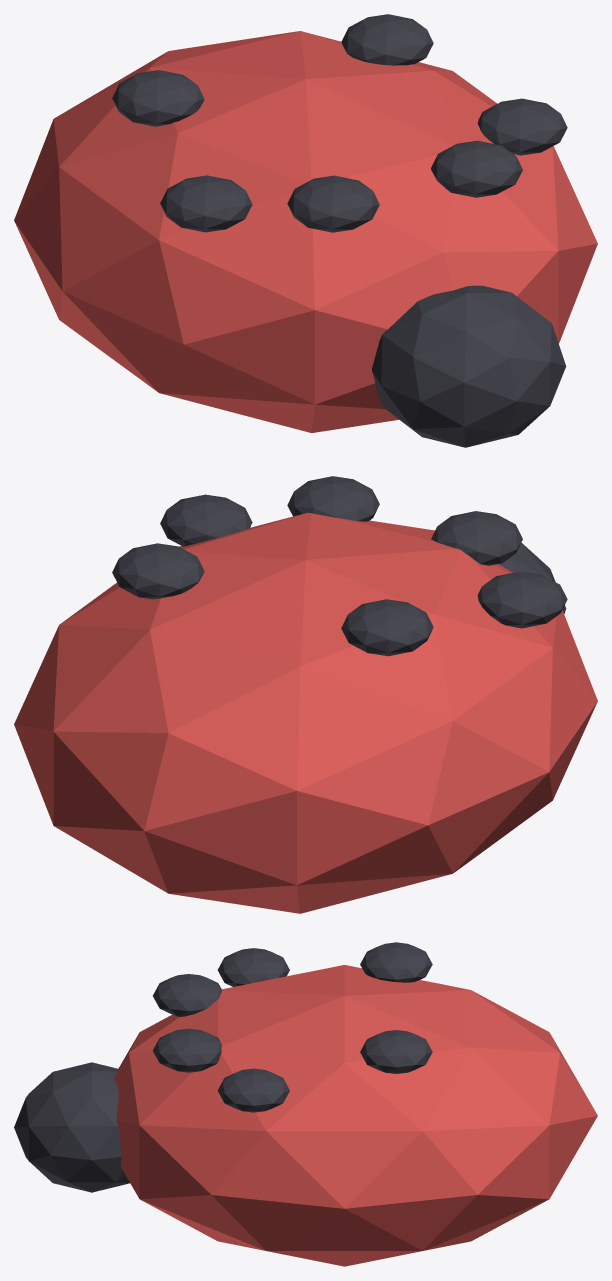
Rendered from deco_ladybug.obj.
3 renders of one model, top to bottom at view 1: azimuth 30°, elevation 25°; view 2: azimuth 150°, elevation 25°; view 3: azimuth 270°, elevation 25°, orthographic. The views are drawn at different scales.
Parts seen in each view (by area): view 1: deco_ladybug; view 2: deco_ladybug; view 3: deco_ladybug.
Boxes of the visible parts, box(x1,y1,x2,y2) form: deco_ladybug: box(14, 14, 597, 447); deco_ladybug: box(14, 476, 597, 913); deco_ladybug: box(14, 942, 597, 1266).
Size of the model in its own units: 0.034 by 0.0207 by 0.0451.
Materials: 1 (1 with a texture image).
